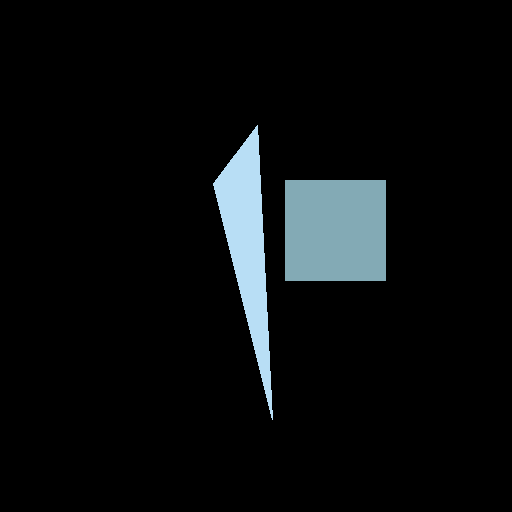square: (285, 180, 385, 280)
triangle: (213, 125, 272, 419)
